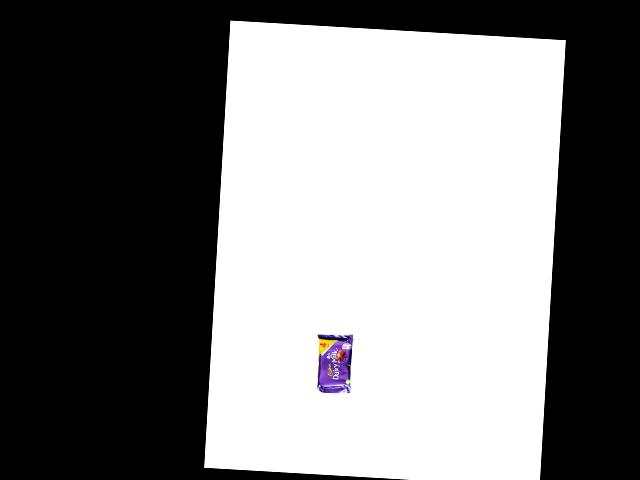chocolate: (314, 325, 358, 396)
